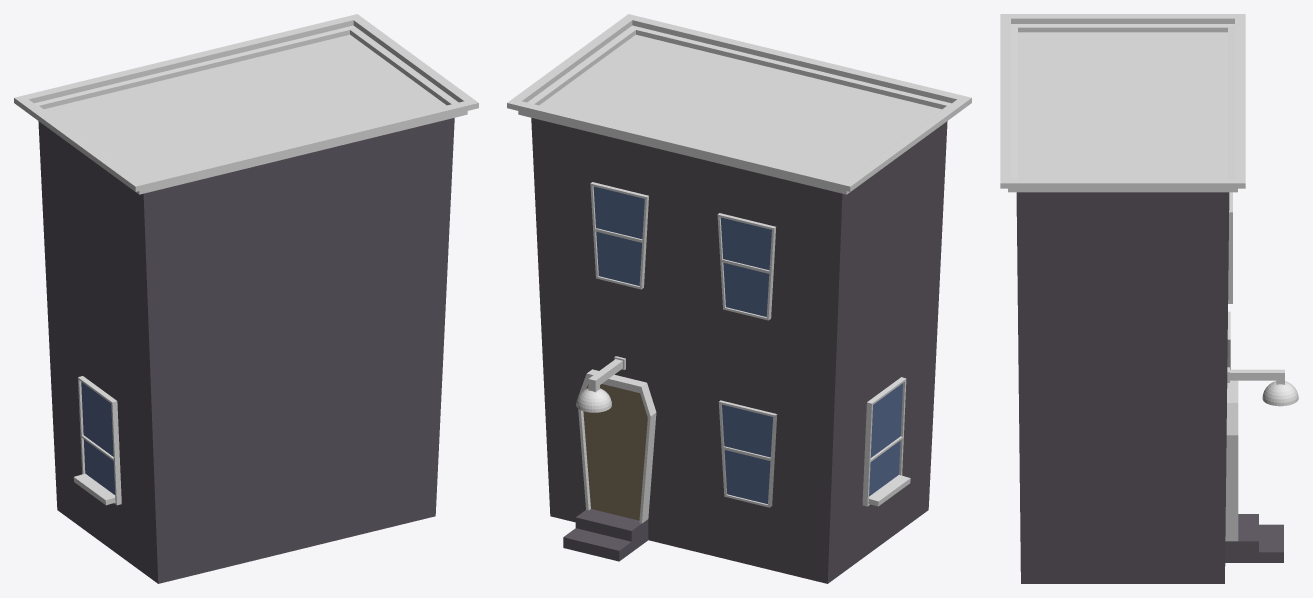
The model's file is Building 001.fbx.
3 renders of one model, left to right at view 1: azimuth 30°, elevation 25°; view 2: azimuth 150°, elevation 25°; view 3: azimuth 270°, elevation 25°, orthographic.
Visible parts, largest first — view 1: Building_001_Mesh; view 2: Building_001_Mesh; view 3: Building_001_Mesh.
Boxes of the visible parts, <box> form: Building_001_Mesh: <box>14,14,478,583</box>; Building_001_Mesh: <box>507,14,971,583</box>; Building_001_Mesh: <box>1000,14,1298,583</box>.
Bounding box in the file's own units: 3.93 × 4.51 × 2.93.
